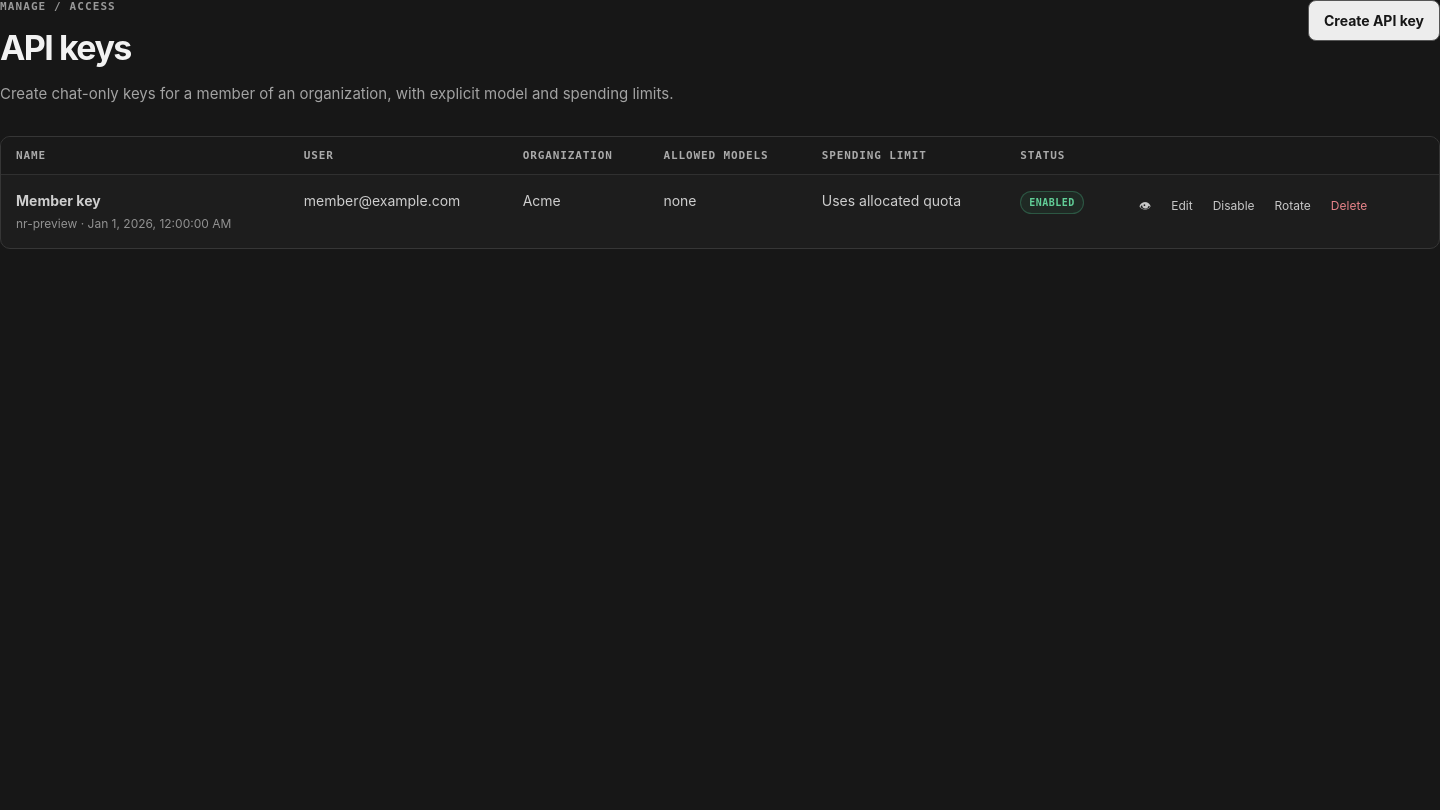
copies a revealed key with the HTTP-safe clipboard fallback
Click the button named "View Member key API key" at x=1145, y=206, box [1130,190,1160,222]
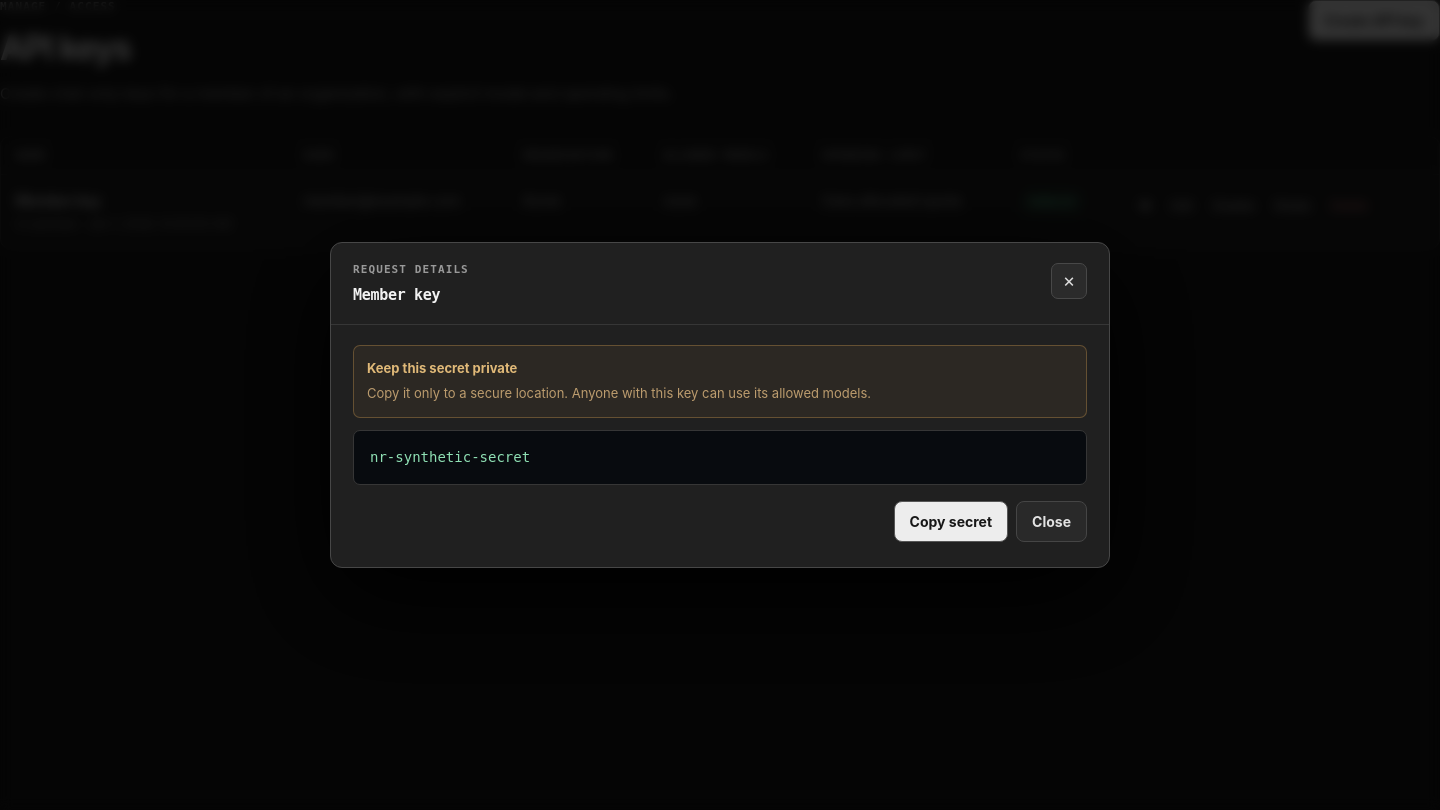
Click the button "Copy secret" at x=951, y=521, box [894,501,1008,542]
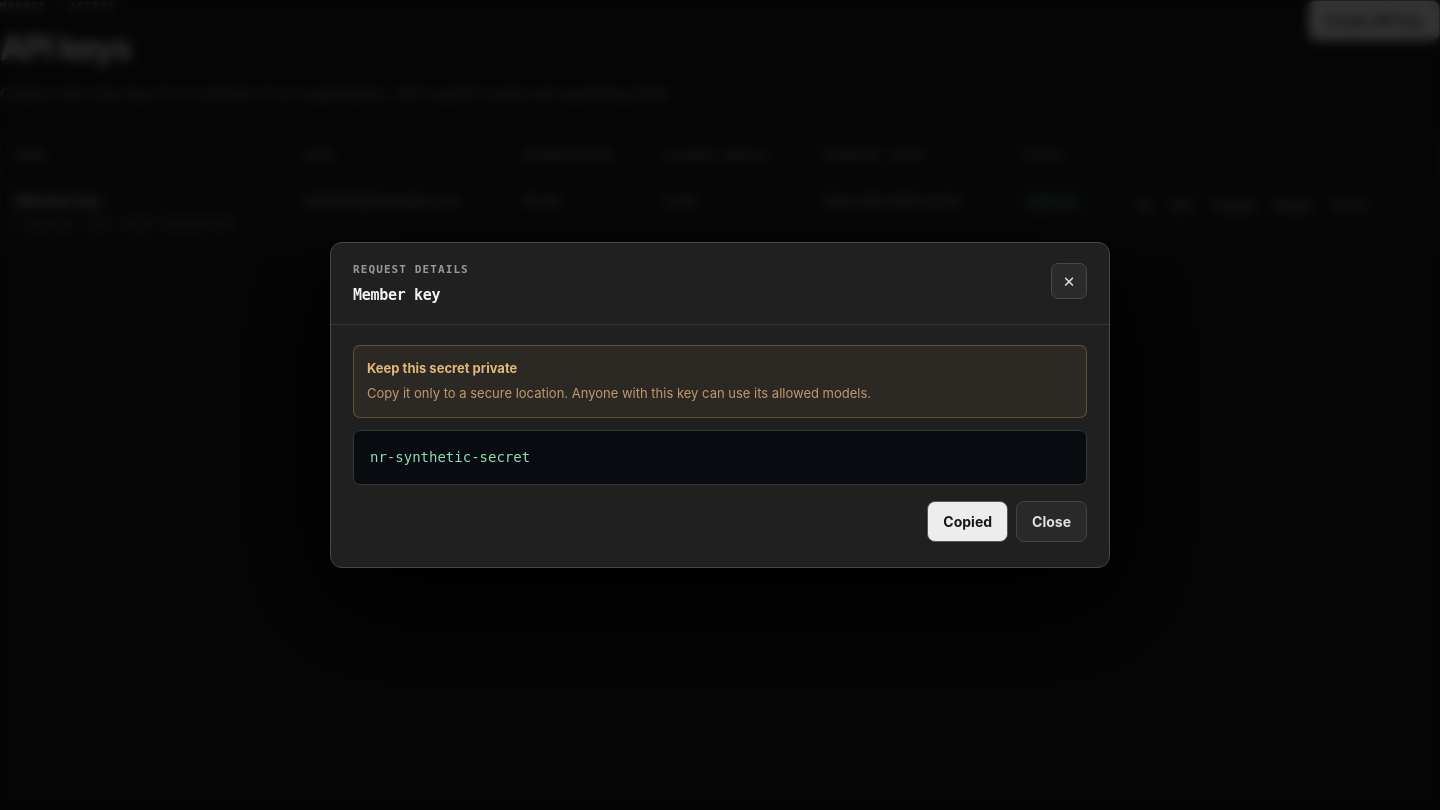
Check: the button "Copied" is shown, box [927,501,1008,542]
